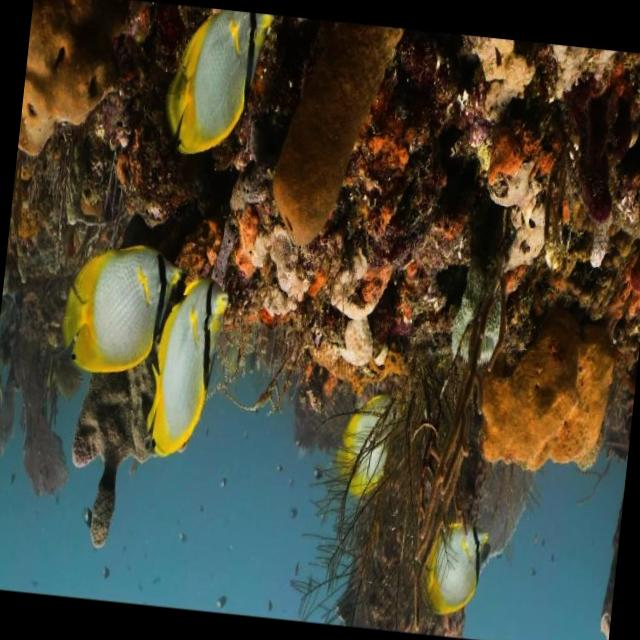ButterflyFish: (126, 0, 319, 183), (49, 211, 177, 395), (137, 258, 249, 457), (311, 370, 420, 520), (404, 500, 508, 624)
